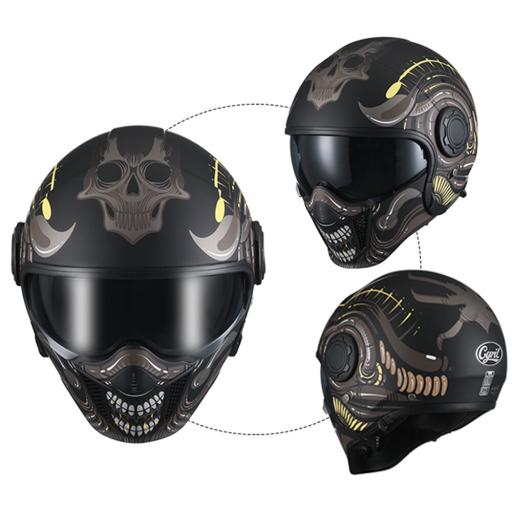helmet-detection: (2, 109, 272, 472)
